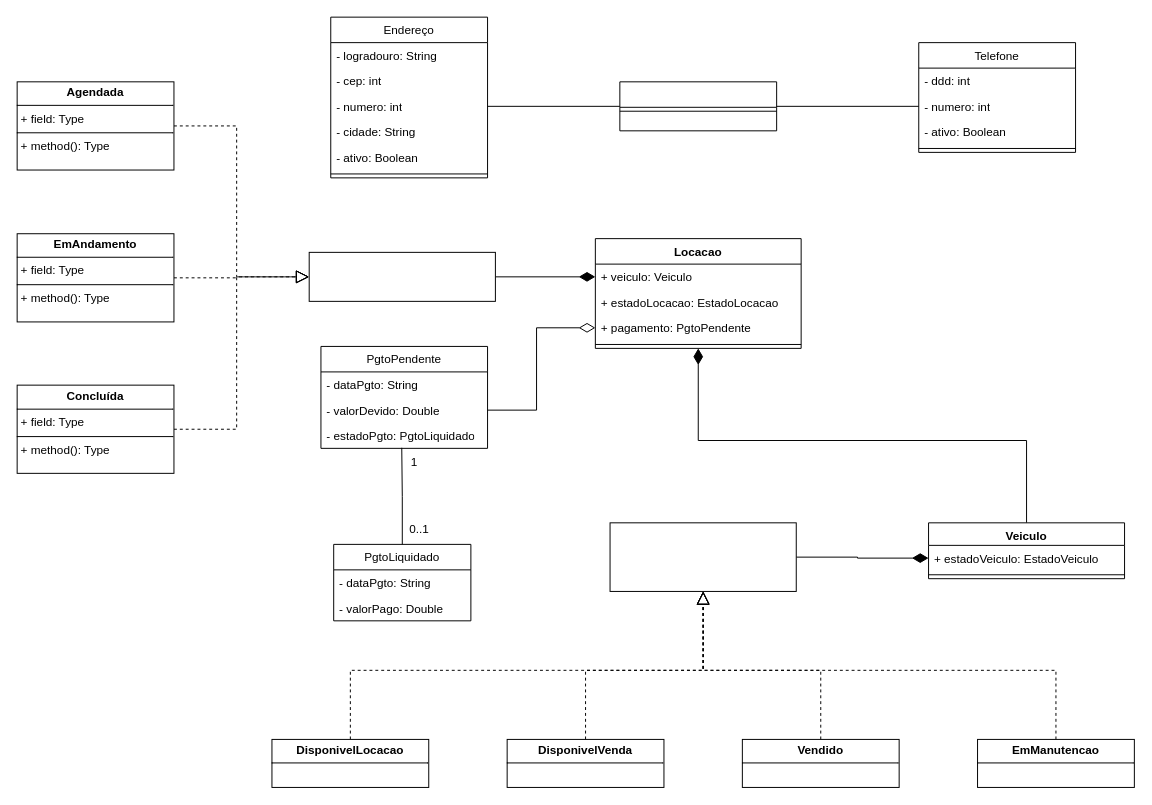
Some shapes in this 1152 by 805 pixel diagram are drawn without their labels. The centre of each missing label's shape, as x and y in pixels:
"<<Interface>> EstadoLocacao" goes at [401,276].
"<<Interface>> EstadoVeiculo" goes at [702,556].
"Cliente" goes at [698,106].
